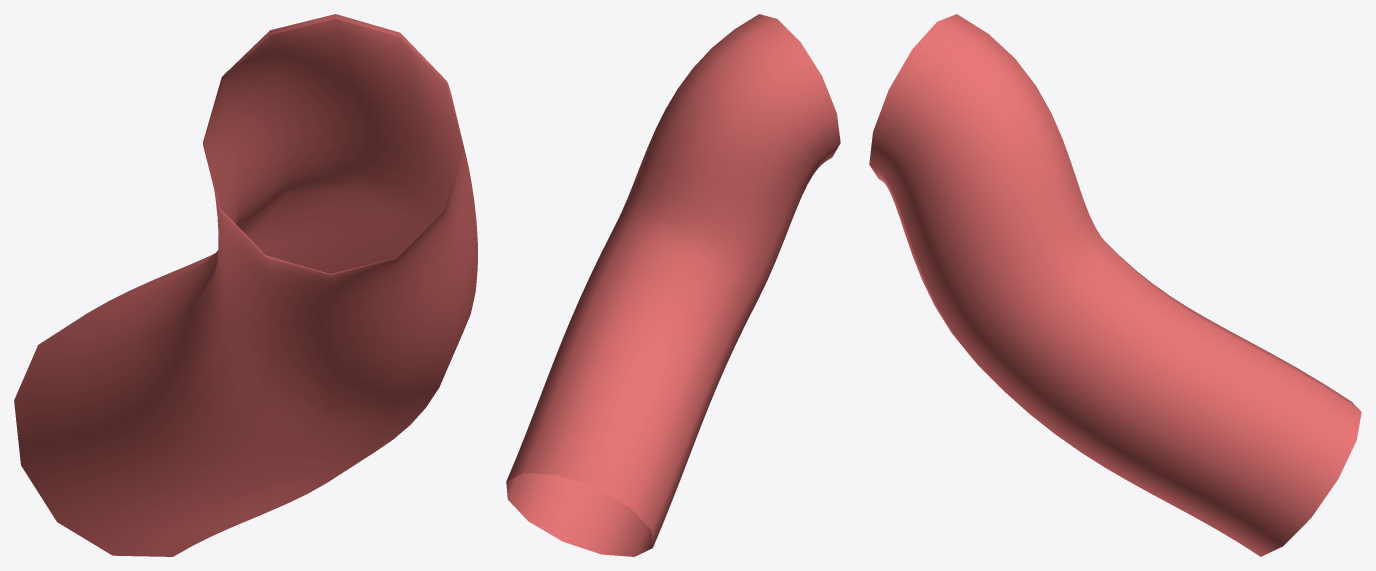
File: Coeliac_trunk.glb
The picture shows the model from 3 angles, left to right: view 1: azimuth 30°, elevation 25°; view 2: azimuth 150°, elevation 25°; view 3: azimuth 270°, elevation 25°; orthographic projection. The views are drawn at different scales.
Parts seen in each view (by area): view 1: Coeliac_trunk_BezierCurve.055; view 2: Coeliac_trunk_BezierCurve.055; view 3: Coeliac_trunk_BezierCurve.055.
Part boxes in pixels (left/top/right/bottom): Coeliac_trunk_BezierCurve.055: left=14, top=14, right=477, bottom=556; Coeliac_trunk_BezierCurve.055: left=506, top=14, right=840, bottom=556; Coeliac_trunk_BezierCurve.055: left=869, top=14, right=1361, bottom=556.
Size of the model in its own units: 0.011 by 0.0243 by 0.0215.
